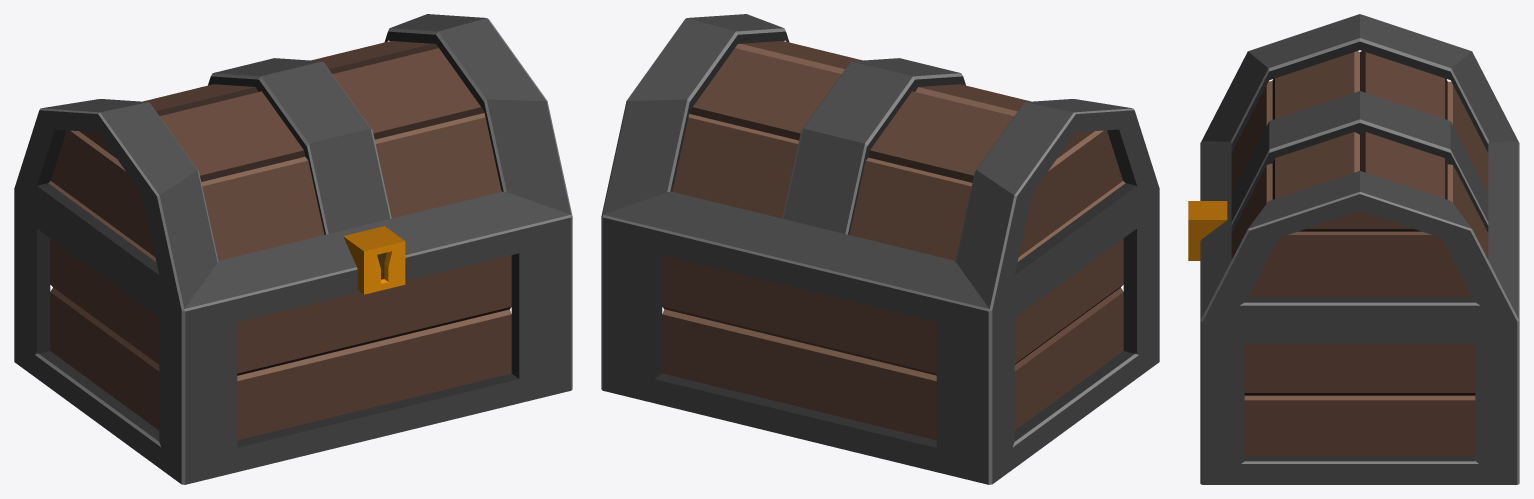
Rendered from Trunk_01.glb.
3 views of the same model, side by side, from view 1: azimuth 30°, elevation 25°; view 2: azimuth 150°, elevation 25°; view 3: azimuth 270°, elevation 25° (orthographic). The views are drawn at different scales.
Parts seen in each view (by area): view 1: Trunk_01; view 2: Trunk_01; view 3: Trunk_01.
Part boxes in pixels (x1,y1,x2,y2): Trunk_01: (14, 14, 572, 484); Trunk_01: (601, 14, 1159, 484); Trunk_01: (1188, 14, 1519, 484).
Size of what is drawn, in the model's own units: 1.01 by 0.7692 by 0.7903.
Materials: 1 (1 with a texture image).
